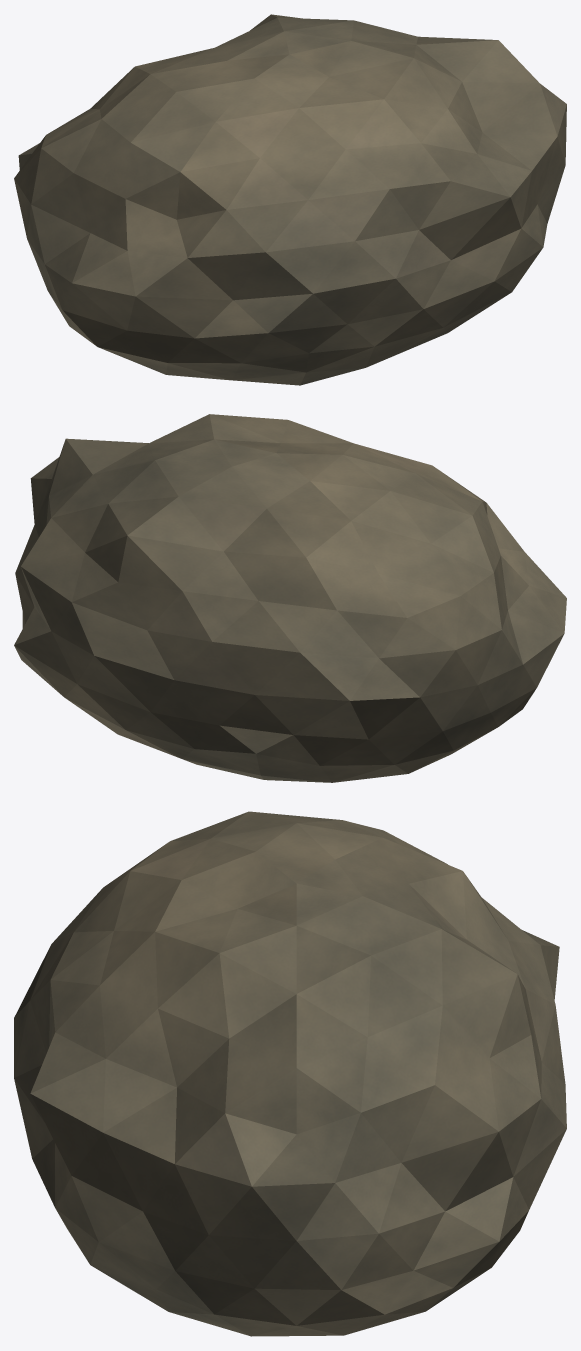
The model's file is prop_rock_medium.glb.
3 views of the same model, one above another, from view 1: azimuth 30°, elevation 25°; view 2: azimuth 150°, elevation 25°; view 3: azimuth 270°, elevation 25° (orthographic). The views are drawn at different scales.
Visible parts, largest first — view 1: rock__Fractured_medium; view 2: rock__Fractured_medium; view 3: rock__Fractured_medium.
Part boxes in pixels (<box>): rock__Fractured_medium: <box>14,14,566,385</box>; rock__Fractured_medium: <box>14,414,566,782</box>; rock__Fractured_medium: <box>14,811,566,1336</box>.
Bounding box in the file's own units: 2.98 × 1.66 × 2.09.
1 material, 1 textured.
